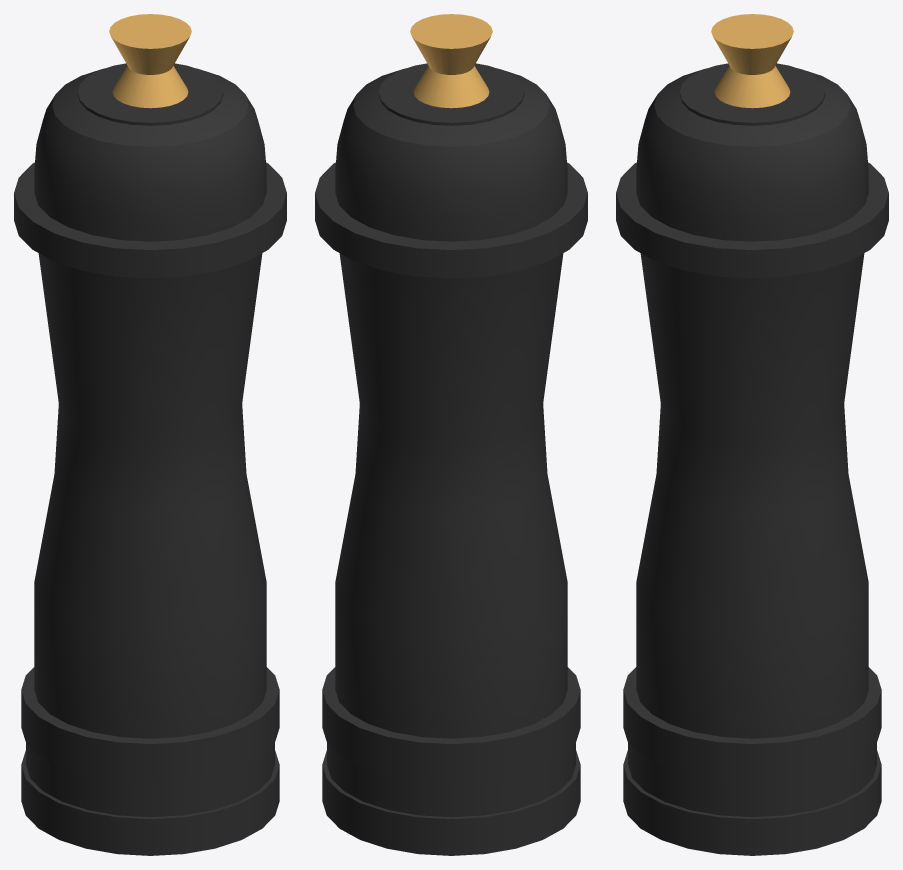
Rendered from pepper.fbx.
3 views of the same model, side by side, from view 1: azimuth 30°, elevation 25°; view 2: azimuth 150°, elevation 25°; view 3: azimuth 270°, elevation 25° (orthographic).
Visible parts, largest first — view 1: Cylinder.002; view 2: Cylinder.002; view 3: Cylinder.002.
Part boxes in pixels (<box>): Cylinder.002: <box>14,14,286,855</box>; Cylinder.002: <box>315,14,587,855</box>; Cylinder.002: <box>616,14,888,855</box>.
Bounding box in the file's own units: 25.37 × 79 × 25.37.
